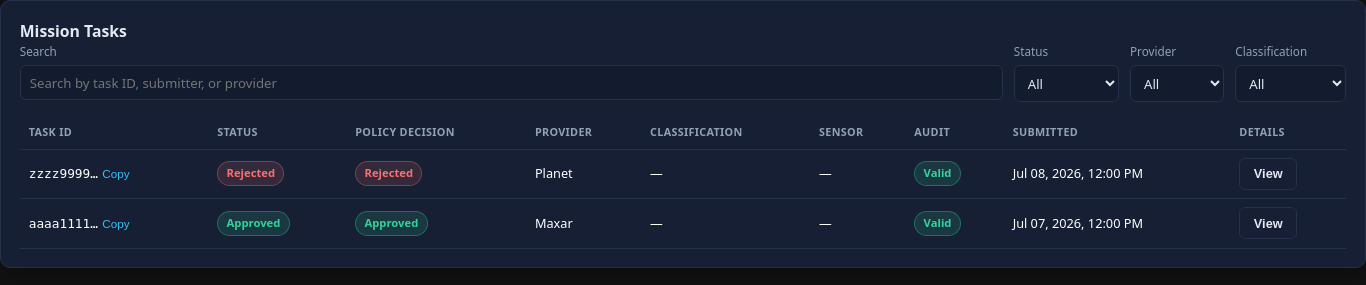
TaskTable › filters rows by status
Select "Rejected" in the dropdown labelled "Status" at [1066, 84], box [1014, 65, 1119, 102]
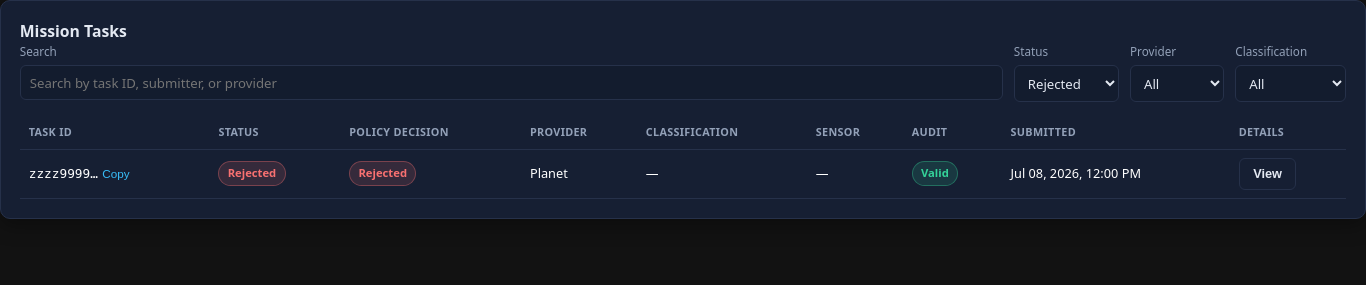
Expected: the text "Planet" is shown, [521, 149, 637, 199]
Expected: the text "Maxar" is gone
